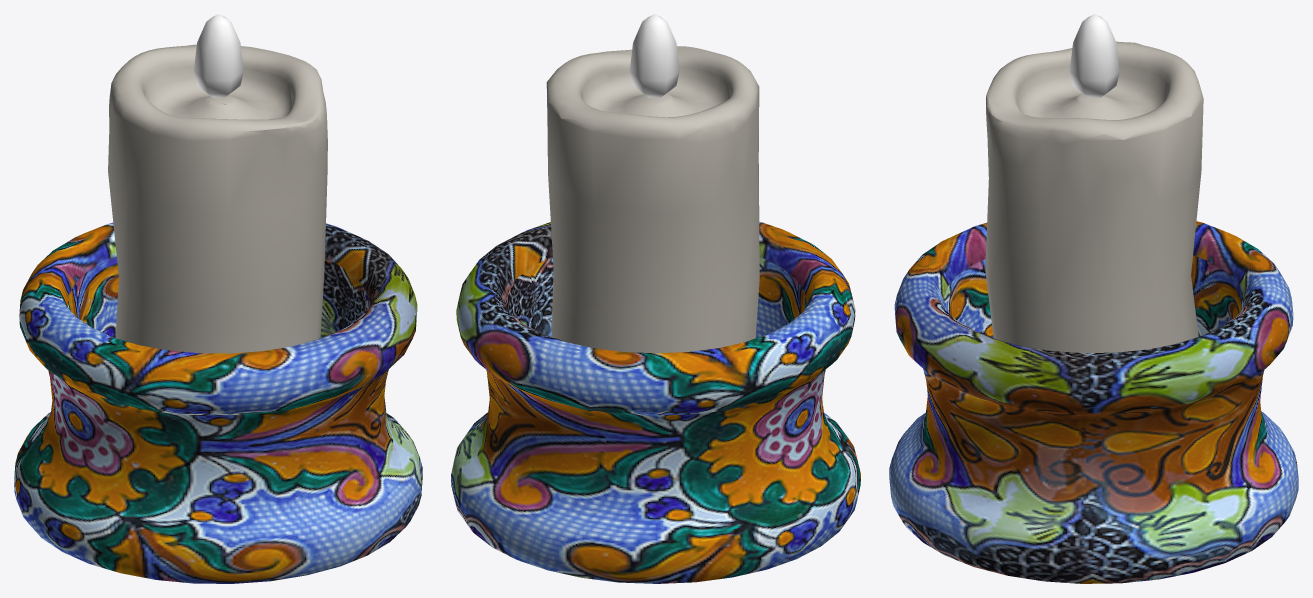
File: candle_final.obj
3 views of the same model, side by side, from view 1: azimuth 30°, elevation 25°; view 2: azimuth 150°, elevation 25°; view 3: azimuth 270°, elevation 25° (orthographic).
Parts seen in each view (by area): view 1: Mesh; view 2: Mesh; view 3: Mesh.
Boxes of the visible parts, x1,y1,x2,y2 form: Mesh: [14, 14, 422, 583]; Mesh: [451, 14, 860, 583]; Mesh: [889, 14, 1298, 583].
Bounding box in the file's own units: 0.1299 × 0.1715 × 0.13.
3 materials, 1 textured.
